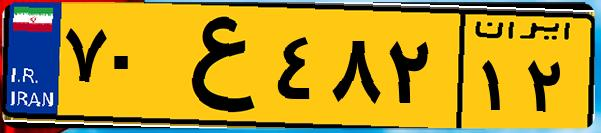0: (110, 28, 158, 98)
1: (475, 38, 525, 113)
2: (385, 28, 445, 110), (525, 38, 570, 115)
4: (270, 28, 330, 110)
7: (57, 26, 110, 100)
8: (330, 28, 385, 110)
ع: (158, 12, 270, 120)
